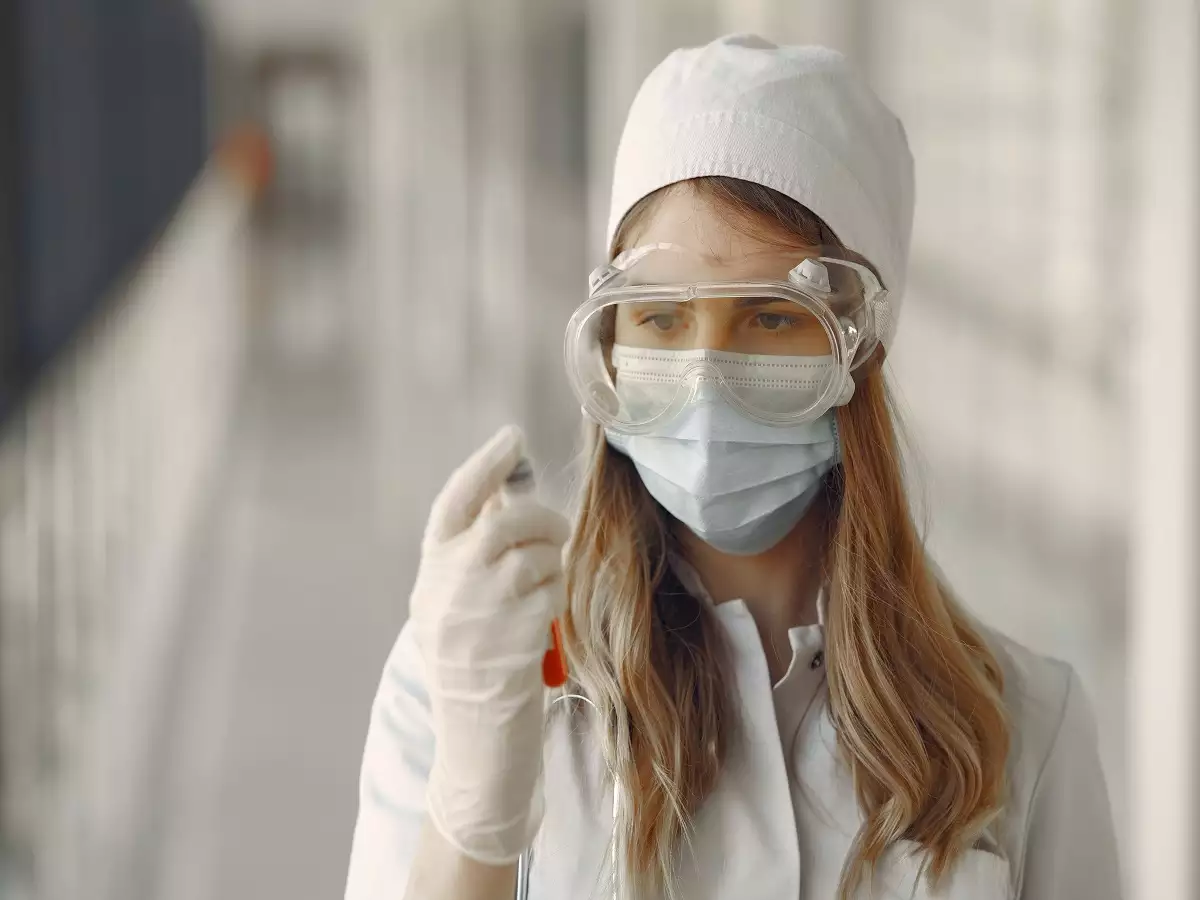Gloves: (410, 433, 568, 858)
Goggles: (561, 255, 871, 429)
with_mask: (602, 277, 843, 540)
